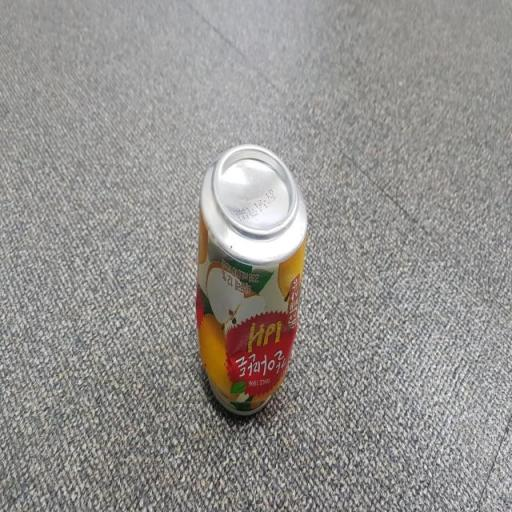metal: (184, 132, 320, 437)
